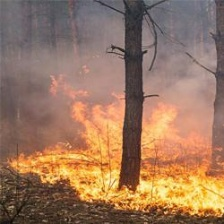fire: (17, 98, 224, 218)
